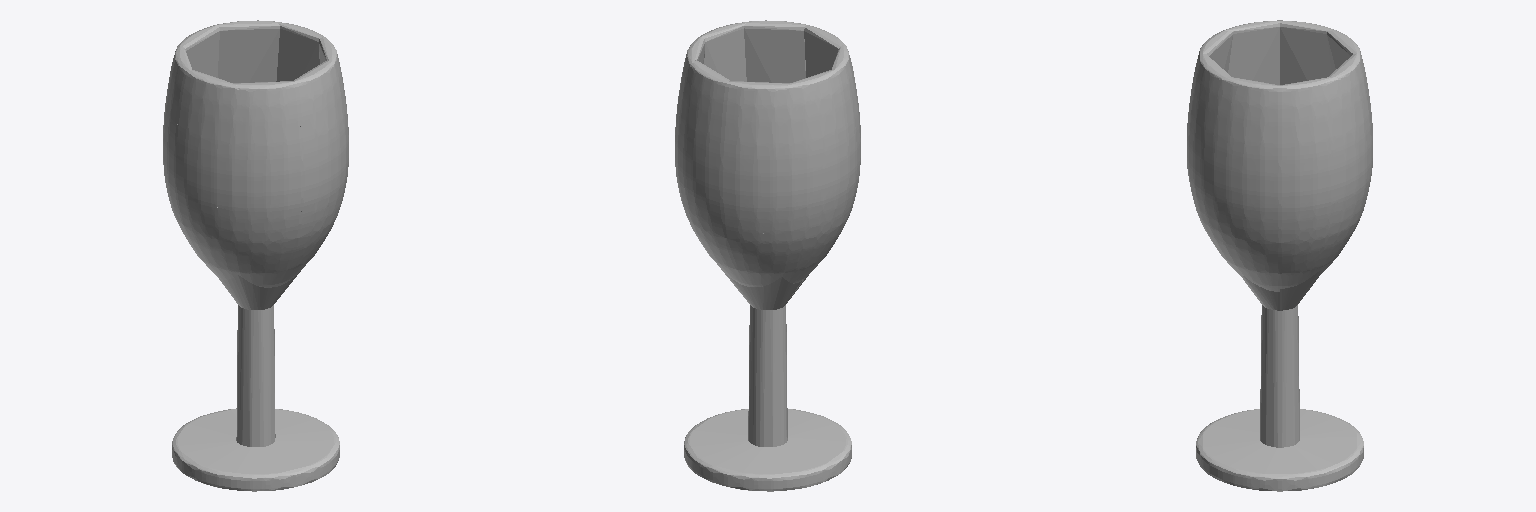
URDF robot description (root):
<robot name="root">
  <link name="object">
    <visual>
      <origin xyz="0 0 0" rpy="0 0 0"/>
      <geometry>
        <mesh filename="coacd_convex_piece_0.obj" scale="1.0000E+00 1.0000E+00 1.0000E+00"/>
      </geometry>
      <material name="">
        <color rgba="7.50E-01 7.50E-01 7.50E-01 1"/>
      </material>
    </visual>
    <collision>
      <origin xyz="0 0 0" rpy="0 0 0"/>
      <geometry>
        <mesh filename="coacd_convex_piece_0.obj" scale="1.0000E+00 1.0000E+00 1.0000E+00"/>
      </geometry>
    </collision>
    <visual>
      <origin xyz="0 0 0" rpy="0 0 0"/>
      <geometry>
        <mesh filename="coacd_convex_piece_1.obj" scale="1.0000E+00 1.0000E+00 1.0000E+00"/>
      </geometry>
      <material name="">
        <color rgba="7.50E-01 7.50E-01 7.50E-01 1"/>
      </material>
    </visual>
    <collision>
      <origin xyz="0 0 0" rpy="0 0 0"/>
      <geometry>
        <mesh filename="coacd_convex_piece_1.obj" scale="1.0000E+00 1.0000E+00 1.0000E+00"/>
      </geometry>
    </collision>
    <visual>
      <origin xyz="0 0 0" rpy="0 0 0"/>
      <geometry>
        <mesh filename="coacd_convex_piece_2.obj" scale="1.0000E+00 1.0000E+00 1.0000E+00"/>
      </geometry>
      <material name="">
        <color rgba="7.50E-01 7.50E-01 7.50E-01 1"/>
      </material>
    </visual>
    <collision>
      <origin xyz="0 0 0" rpy="0 0 0"/>
      <geometry>
        <mesh filename="coacd_convex_piece_2.obj" scale="1.0000E+00 1.0000E+00 1.0000E+00"/>
      </geometry>
    </collision>
    <visual>
      <origin xyz="0 0 0" rpy="0 0 0"/>
      <geometry>
        <mesh filename="coacd_convex_piece_3.obj" scale="1.0000E+00 1.0000E+00 1.0000E+00"/>
      </geometry>
      <material name="">
        <color rgba="7.50E-01 7.50E-01 7.50E-01 1"/>
      </material>
    </visual>
    <collision>
      <origin xyz="0 0 0" rpy="0 0 0"/>
      <geometry>
        <mesh filename="coacd_convex_piece_3.obj" scale="1.0000E+00 1.0000E+00 1.0000E+00"/>
      </geometry>
    </collision>
    <visual>
      <origin xyz="0 0 0" rpy="0 0 0"/>
      <geometry>
        <mesh filename="coacd_convex_piece_4.obj" scale="1.0000E+00 1.0000E+00 1.0000E+00"/>
      </geometry>
      <material name="">
        <color rgba="7.50E-01 7.50E-01 7.50E-01 1"/>
      </material>
    </visual>
    <collision>
      <origin xyz="0 0 0" rpy="0 0 0"/>
      <geometry>
        <mesh filename="coacd_convex_piece_4.obj" scale="1.0000E+00 1.0000E+00 1.0000E+00"/>
      </geometry>
    </collision>
    <visual>
      <origin xyz="0 0 0" rpy="0 0 0"/>
      <geometry>
        <mesh filename="coacd_convex_piece_5.obj" scale="1.0000E+00 1.0000E+00 1.0000E+00"/>
      </geometry>
      <material name="">
        <color rgba="7.50E-01 7.50E-01 7.50E-01 1"/>
      </material>
    </visual>
    <collision>
      <origin xyz="0 0 0" rpy="0 0 0"/>
      <geometry>
        <mesh filename="coacd_convex_piece_5.obj" scale="1.0000E+00 1.0000E+00 1.0000E+00"/>
      </geometry>
    </collision>
    <visual>
      <origin xyz="0 0 0" rpy="0 0 0"/>
      <geometry>
        <mesh filename="coacd_convex_piece_6.obj" scale="1.0000E+00 1.0000E+00 1.0000E+00"/>
      </geometry>
      <material name="">
        <color rgba="7.50E-01 7.50E-01 7.50E-01 1"/>
      </material>
    </visual>
    <collision>
      <origin xyz="0 0 0" rpy="0 0 0"/>
      <geometry>
        <mesh filename="coacd_convex_piece_6.obj" scale="1.0000E+00 1.0000E+00 1.0000E+00"/>
      </geometry>
    </collision>
    <visual>
      <origin xyz="0 0 0" rpy="0 0 0"/>
      <geometry>
        <mesh filename="coacd_convex_piece_7.obj" scale="1.0000E+00 1.0000E+00 1.0000E+00"/>
      </geometry>
      <material name="">
        <color rgba="7.50E-01 7.50E-01 7.50E-01 1"/>
      </material>
    </visual>
    <collision>
      <origin xyz="0 0 0" rpy="0 0 0"/>
      <geometry>
        <mesh filename="coacd_convex_piece_7.obj" scale="1.0000E+00 1.0000E+00 1.0000E+00"/>
      </geometry>
    </collision>
    <visual>
      <origin xyz="0 0 0" rpy="0 0 0"/>
      <geometry>
        <mesh filename="coacd_convex_piece_8.obj" scale="1.0000E+00 1.0000E+00 1.0000E+00"/>
      </geometry>
      <material name="">
        <color rgba="7.50E-01 7.50E-01 7.50E-01 1"/>
      </material>
    </visual>
    <collision>
      <origin xyz="0 0 0" rpy="0 0 0"/>
      <geometry>
        <mesh filename="coacd_convex_piece_8.obj" scale="1.0000E+00 1.0000E+00 1.0000E+00"/>
      </geometry>
    </collision>
    <visual>
      <origin xyz="0 0 0" rpy="0 0 0"/>
      <geometry>
        <mesh filename="coacd_convex_piece_9.obj" scale="1.0000E+00 1.0000E+00 1.0000E+00"/>
      </geometry>
      <material name="">
        <color rgba="7.50E-01 7.50E-01 7.50E-01 1"/>
      </material>
    </visual>
    <collision>
      <origin xyz="0 0 0" rpy="0 0 0"/>
      <geometry>
        <mesh filename="coacd_convex_piece_9.obj" scale="1.0000E+00 1.0000E+00 1.0000E+00"/>
      </geometry>
    </collision>
    <visual>
      <origin xyz="0 0 0" rpy="0 0 0"/>
      <geometry>
        <mesh filename="coacd_convex_piece_10.obj" scale="1.0000E+00 1.0000E+00 1.0000E+00"/>
      </geometry>
      <material name="">
        <color rgba="7.50E-01 7.50E-01 7.50E-01 1"/>
      </material>
    </visual>
    <collision>
      <origin xyz="0 0 0" rpy="0 0 0"/>
      <geometry>
        <mesh filename="coacd_convex_piece_10.obj" scale="1.0000E+00 1.0000E+00 1.0000E+00"/>
      </geometry>
    </collision>
    <visual>
      <origin xyz="0 0 0" rpy="0 0 0"/>
      <geometry>
        <mesh filename="coacd_convex_piece_11.obj" scale="1.0000E+00 1.0000E+00 1.0000E+00"/>
      </geometry>
      <material name="">
        <color rgba="7.50E-01 7.50E-01 7.50E-01 1"/>
      </material>
    </visual>
    <collision>
      <origin xyz="0 0 0" rpy="0 0 0"/>
      <geometry>
        <mesh filename="coacd_convex_piece_11.obj" scale="1.0000E+00 1.0000E+00 1.0000E+00"/>
      </geometry>
    </collision>
    <visual>
      <origin xyz="0 0 0" rpy="0 0 0"/>
      <geometry>
        <mesh filename="coacd_convex_piece_12.obj" scale="1.0000E+00 1.0000E+00 1.0000E+00"/>
      </geometry>
      <material name="">
        <color rgba="7.50E-01 7.50E-01 7.50E-01 1"/>
      </material>
    </visual>
    <collision>
      <origin xyz="0 0 0" rpy="0 0 0"/>
      <geometry>
        <mesh filename="coacd_convex_piece_12.obj" scale="1.0000E+00 1.0000E+00 1.0000E+00"/>
      </geometry>
    </collision>
    <visual>
      <origin xyz="0 0 0" rpy="0 0 0"/>
      <geometry>
        <mesh filename="coacd_convex_piece_13.obj" scale="1.0000E+00 1.0000E+00 1.0000E+00"/>
      </geometry>
      <material name="">
        <color rgba="7.50E-01 7.50E-01 7.50E-01 1"/>
      </material>
    </visual>
    <collision>
      <origin xyz="0 0 0" rpy="0 0 0"/>
      <geometry>
        <mesh filename="coacd_convex_piece_13.obj" scale="1.0000E+00 1.0000E+00 1.0000E+00"/>
      </geometry>
    </collision>
    <visual>
      <origin xyz="0 0 0" rpy="0 0 0"/>
      <geometry>
        <mesh filename="coacd_convex_piece_14.obj" scale="1.0000E+00 1.0000E+00 1.0000E+00"/>
      </geometry>
      <material name="">
        <color rgba="7.50E-01 7.50E-01 7.50E-01 1"/>
      </material>
    </visual>
    <collision>
      <origin xyz="0 0 0" rpy="0 0 0"/>
      <geometry>
        <mesh filename="coacd_convex_piece_14.obj" scale="1.0000E+00 1.0000E+00 1.0000E+00"/>
      </geometry>
    </collision>
    <visual>
      <origin xyz="0 0 0" rpy="0 0 0"/>
      <geometry>
        <mesh filename="coacd_convex_piece_15.obj" scale="1.0000E+00 1.0000E+00 1.0000E+00"/>
      </geometry>
      <material name="">
        <color rgba="7.50E-01 7.50E-01 7.50E-01 1"/>
      </material>
    </visual>
    <collision>
      <origin xyz="0 0 0" rpy="0 0 0"/>
      <geometry>
        <mesh filename="coacd_convex_piece_15.obj" scale="1.0000E+00 1.0000E+00 1.0000E+00"/>
      </geometry>
    </collision>
    <visual>
      <origin xyz="0 0 0" rpy="0 0 0"/>
      <geometry>
        <mesh filename="coacd_convex_piece_16.obj" scale="1.0000E+00 1.0000E+00 1.0000E+00"/>
      </geometry>
      <material name="">
        <color rgba="7.50E-01 7.50E-01 7.50E-01 1"/>
      </material>
    </visual>
    <collision>
      <origin xyz="0 0 0" rpy="0 0 0"/>
      <geometry>
        <mesh filename="coacd_convex_piece_16.obj" scale="1.0000E+00 1.0000E+00 1.0000E+00"/>
      </geometry>
    </collision>
    <visual>
      <origin xyz="0 0 0" rpy="0 0 0"/>
      <geometry>
        <mesh filename="coacd_convex_piece_17.obj" scale="1.0000E+00 1.0000E+00 1.0000E+00"/>
      </geometry>
      <material name="">
        <color rgba="7.50E-01 7.50E-01 7.50E-01 1"/>
      </material>
    </visual>
    <collision>
      <origin xyz="0 0 0" rpy="0 0 0"/>
      <geometry>
        <mesh filename="coacd_convex_piece_17.obj" scale="1.0000E+00 1.0000E+00 1.0000E+00"/>
      </geometry>
    </collision>
    <visual>
      <origin xyz="0 0 0" rpy="0 0 0"/>
      <geometry>
        <mesh filename="coacd_convex_piece_18.obj" scale="1.0000E+00 1.0000E+00 1.0000E+00"/>
      </geometry>
      <material name="">
        <color rgba="7.50E-01 7.50E-01 7.50E-01 1"/>
      </material>
    </visual>
    <collision>
      <origin xyz="0 0 0" rpy="0 0 0"/>
      <geometry>
        <mesh filename="coacd_convex_piece_18.obj" scale="1.0000E+00 1.0000E+00 1.0000E+00"/>
      </geometry>
    </collision>
    <visual>
      <origin xyz="0 0 0" rpy="0 0 0"/>
      <geometry>
        <mesh filename="coacd_convex_piece_19.obj" scale="1.0000E+00 1.0000E+00 1.0000E+00"/>
      </geometry>
      <material name="">
        <color rgba="7.50E-01 7.50E-01 7.50E-01 1"/>
      </material>
    </visual>
    <collision>
      <origin xyz="0 0 0" rpy="0 0 0"/>
      <geometry>
        <mesh filename="coacd_convex_piece_19.obj" scale="1.0000E+00 1.0000E+00 1.0000E+00"/>
      </geometry>
    </collision>
    <visual>
      <origin xyz="0 0 0" rpy="0 0 0"/>
      <geometry>
        <mesh filename="coacd_convex_piece_20.obj" scale="1.0000E+00 1.0000E+00 1.0000E+00"/>
      </geometry>
      <material name="">
        <color rgba="7.50E-01 7.50E-01 7.50E-01 1"/>
      </material>
    </visual>
    <collision>
      <origin xyz="0 0 0" rpy="0 0 0"/>
      <geometry>
        <mesh filename="coacd_convex_piece_20.obj" scale="1.0000E+00 1.0000E+00 1.0000E+00"/>
      </geometry>
    </collision>
    <visual>
      <origin xyz="0 0 0" rpy="0 0 0"/>
      <geometry>
        <mesh filename="coacd_convex_piece_21.obj" scale="1.0000E+00 1.0000E+00 1.0000E+00"/>
      </geometry>
      <material name="">
        <color rgba="7.50E-01 7.50E-01 7.50E-01 1"/>
      </material>
    </visual>
    <collision>
      <origin xyz="0 0 0" rpy="0 0 0"/>
      <geometry>
        <mesh filename="coacd_convex_piece_21.obj" scale="1.0000E+00 1.0000E+00 1.0000E+00"/>
      </geometry>
    </collision>
  </link>
</robot>

--- What the picture shows (computed from the rendered views, not written in the file) ---
The picture shows the robot from 3 angles, left to right: view 1: azimuth 30°, elevation 25°; view 2: azimuth 150°, elevation 25°; view 3: azimuth 270°, elevation 25°; orthographic projection.
Model root with 1 links and 0 joints (none), rooted at object, posed every joint at zero.
Visible links, largest first — view 1: object; view 2: object; view 3: object.
Link boxes in pixels (box(x1,y1,x2,y2)): object: box(163, 20, 348, 491); object: box(675, 20, 860, 491); object: box(1187, 20, 1372, 491).
Bounding box of the posed robot: 0.0726 × 0.0726 × 0.1738 m (x, y, z).
22 mesh visuals loaded from 22 distinct referenced files (22 OBJ).
